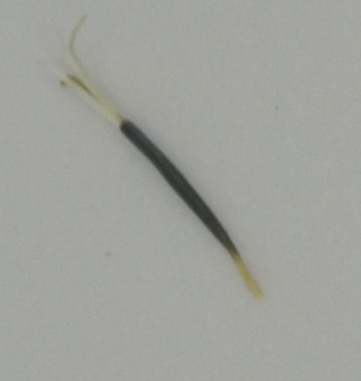เมล็ดดีเรียวยาว: (49, 11, 266, 301)
